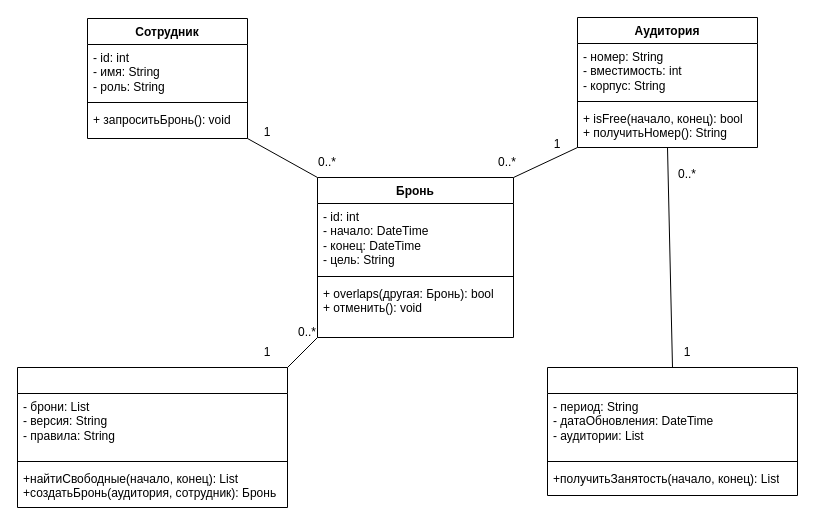
The diagram is 815 pixels wide and 528 high, and some of its shapes have lost their labels. The shapes that lost their labels are listed below. From the top down, each one's box as (x1, y1, x2, y2) in pixels, then its label:
(16, 366, 288, 508): СервисБронирования
(546, 366, 798, 496): Расписание
